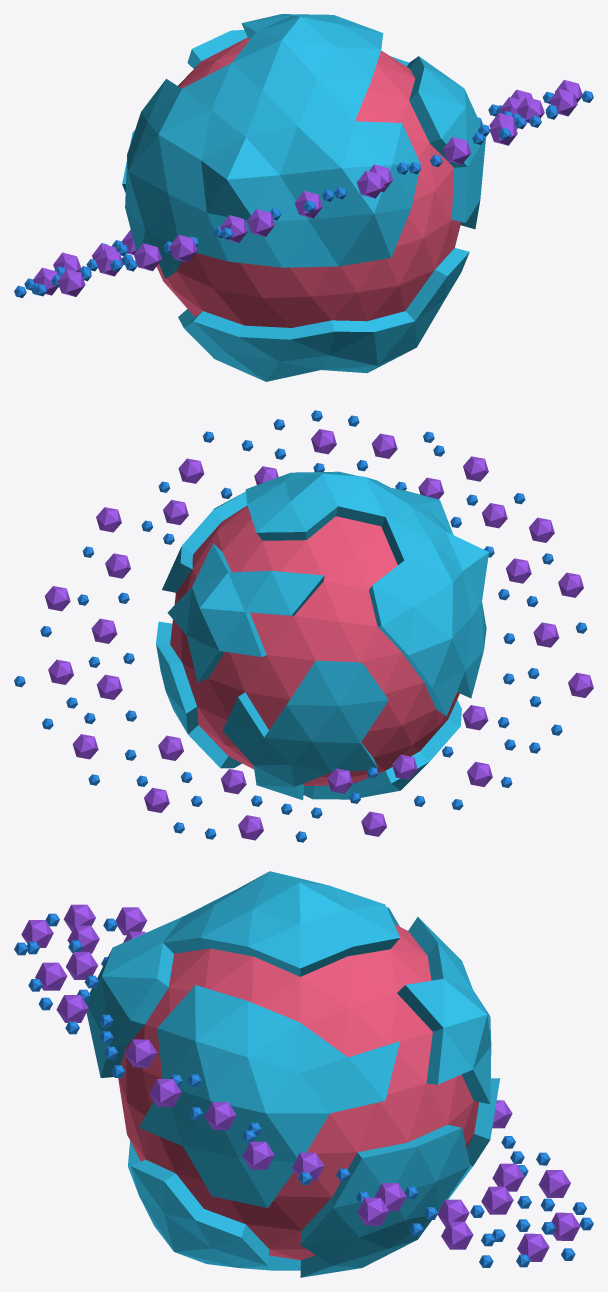
The model's file is planete 3.fbx.
The picture shows the model from 3 angles, top to bottom: view 1: azimuth 30°, elevation 25°; view 2: azimuth 150°, elevation 25°; view 3: azimuth 270°, elevation 25°; orthographic projection. The views are drawn at different scales.
Parts seen in each view (by area): view 1: Icosphere.022; view 2: Icosphere.022; view 3: Icosphere.022.
Boxes of the visible parts, x1=… form: Icosphere.022: x1=14, y1=14, x2=593, y2=381; Icosphere.022: x1=14, y1=410, x2=593, y2=842; Icosphere.022: x1=14, y1=871, x2=593, y2=1277.
Size of the model in its own units: 341 by 208 by 290.
